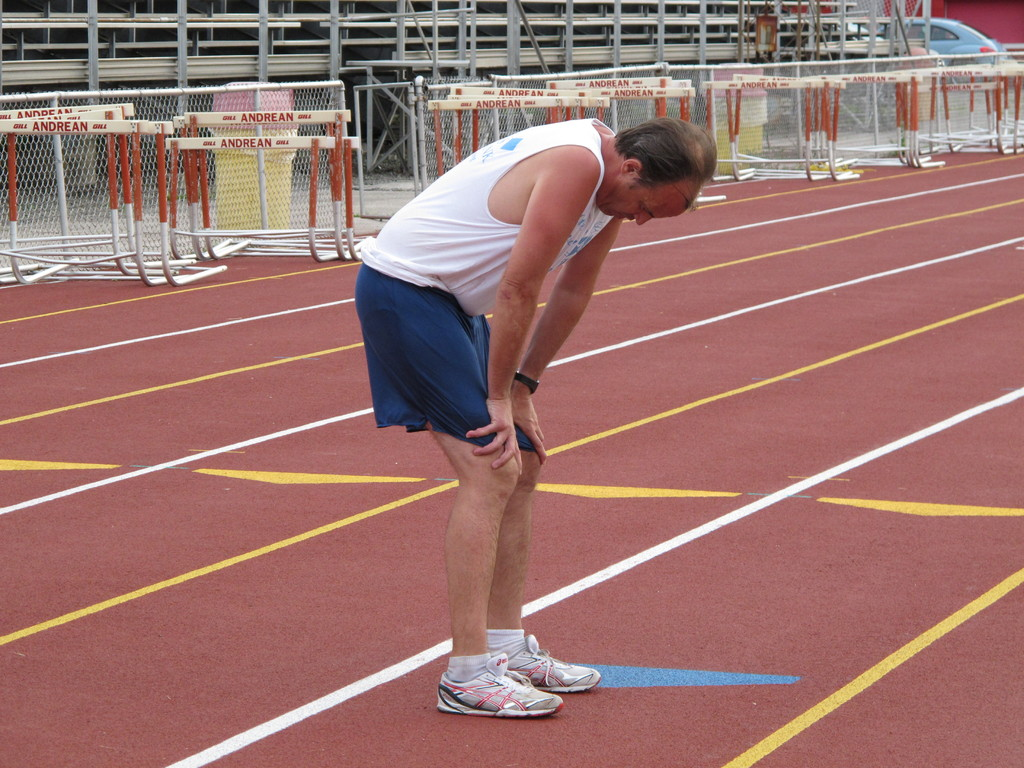face: (597, 170, 698, 225)
